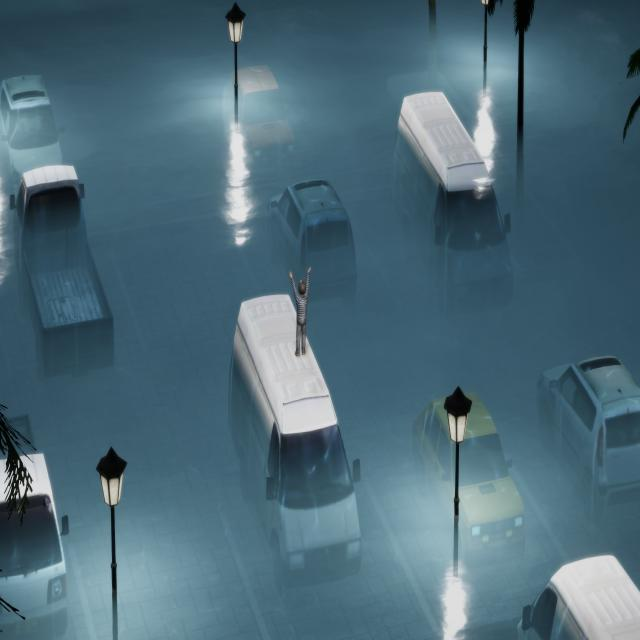Human: (286, 262, 314, 367)
